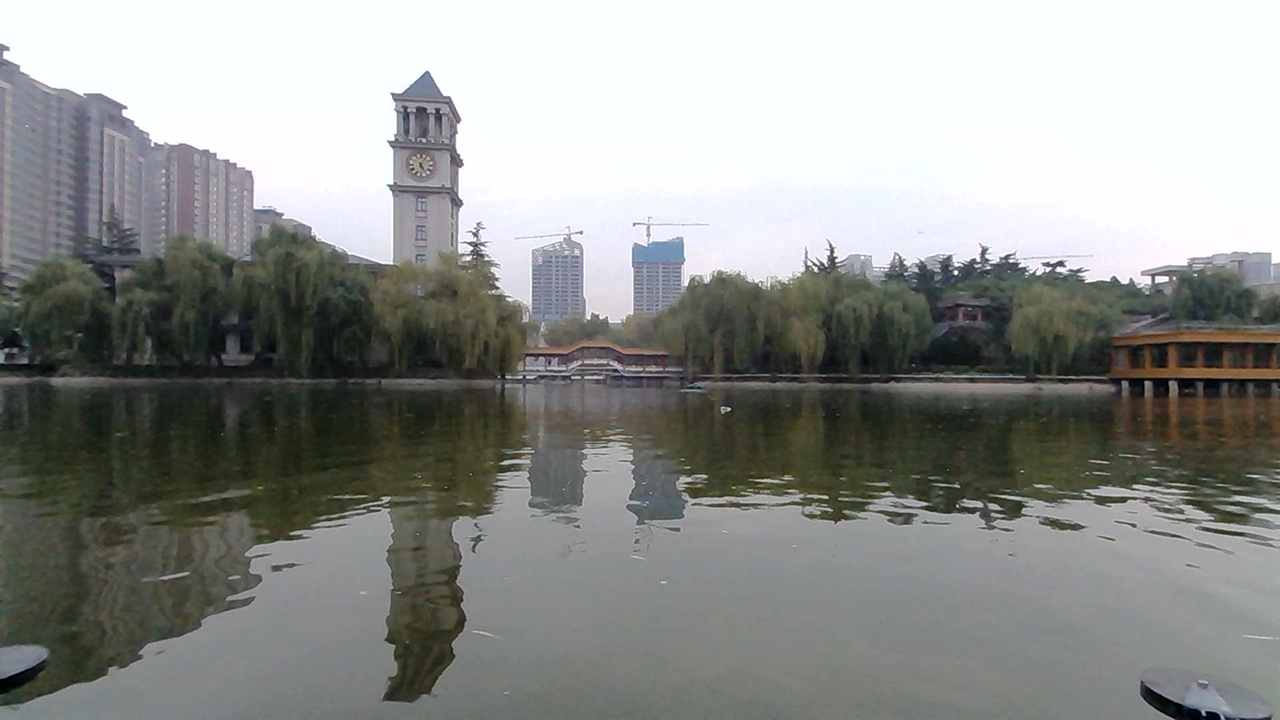bottle: (708, 396, 754, 420)
